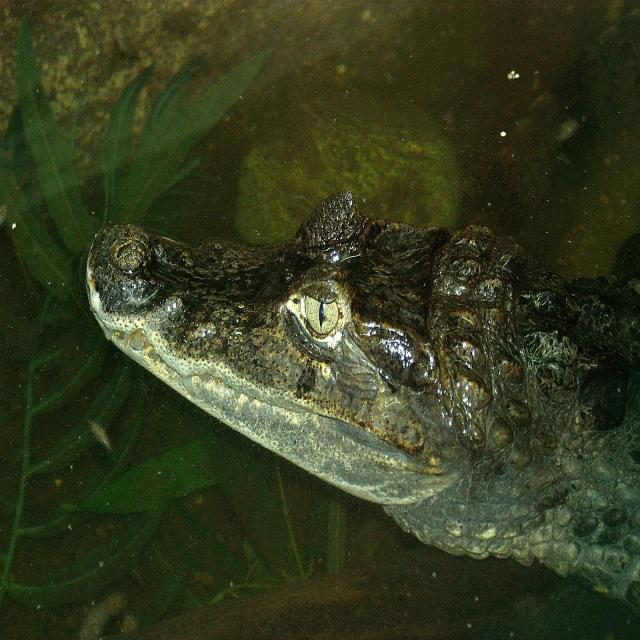crocodile: (37, 119, 640, 639)
